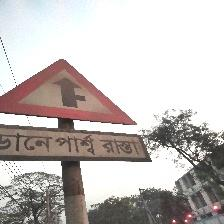Side-road-right: (0, 59, 147, 161)
